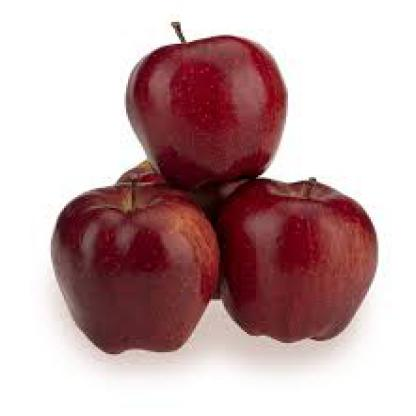Fresh: (19, 11, 401, 387)
